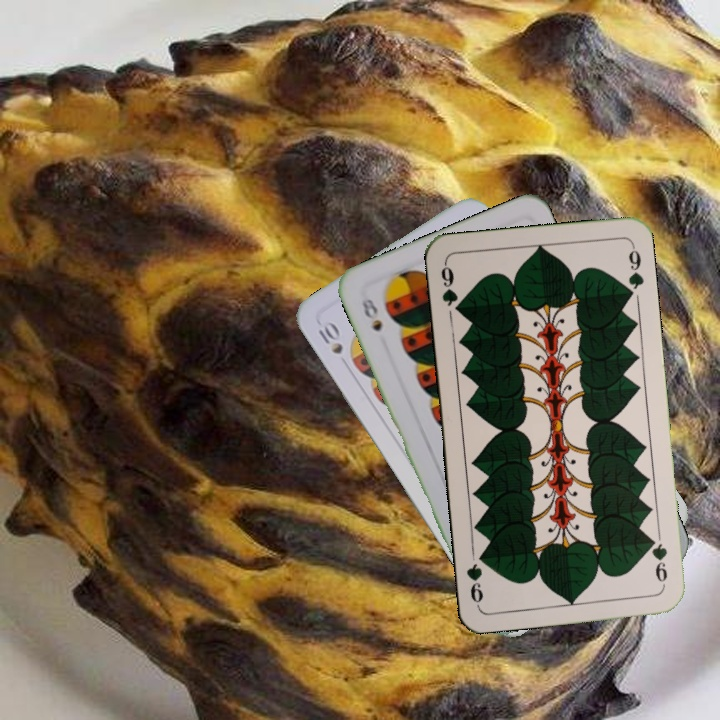G9: (437, 259, 465, 317), (645, 533, 670, 589)
S10: (314, 319, 346, 357)
S8: (357, 294, 385, 334)
